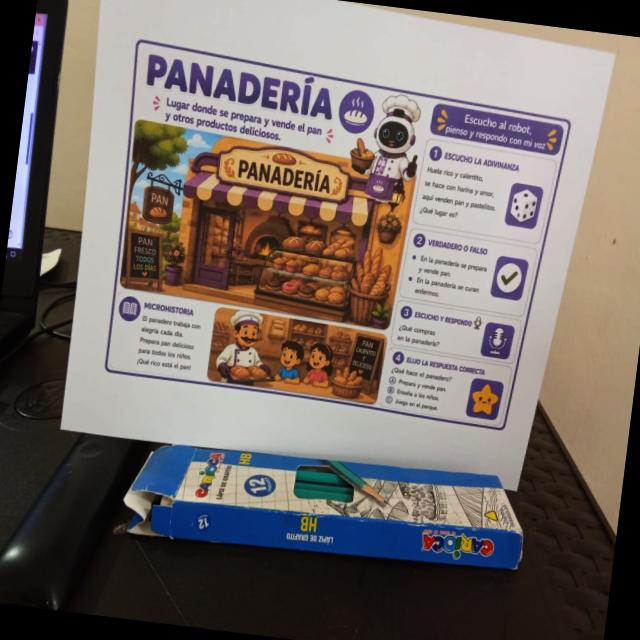panaderia: (90, 32, 580, 439)
